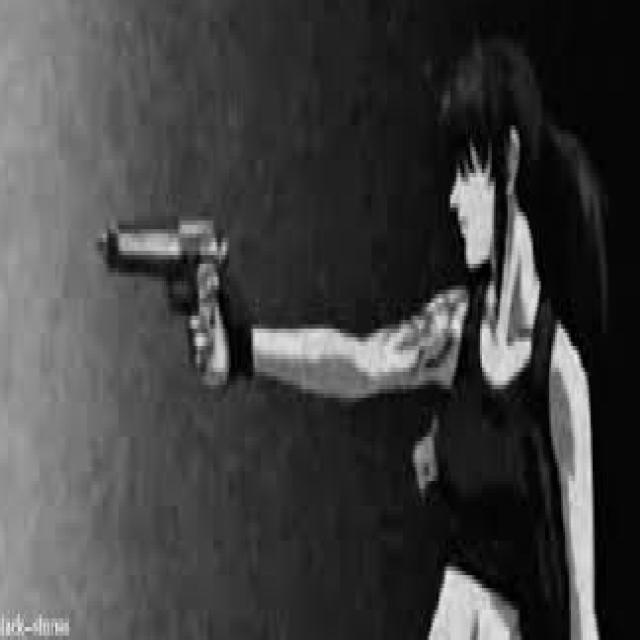gun: (88, 180, 245, 388)
